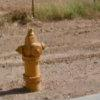Hydrant: (14, 20, 52, 100)
